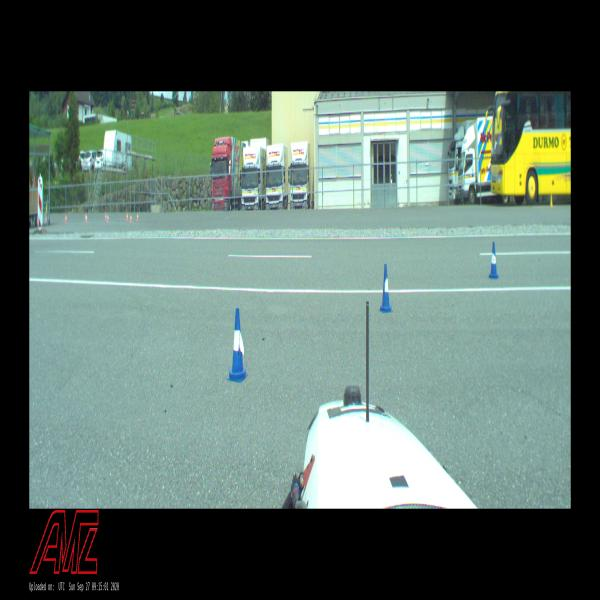blue_cone: (227, 307, 248, 383), (379, 264, 393, 314), (488, 241, 499, 280)
orange_cone: (107, 212, 109, 222), (85, 212, 87, 222), (137, 212, 139, 221), (126, 212, 128, 221), (65, 214, 67, 222), (105, 213, 107, 221), (86, 214, 88, 222), (130, 214, 132, 222)
yellow_cone: (550, 192, 553, 207)
